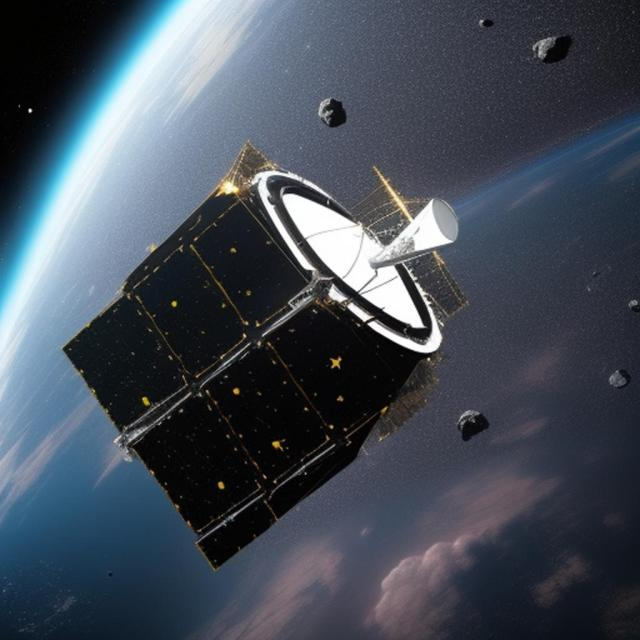large_debris: (520, 20, 596, 92), (447, 395, 508, 463), (319, 95, 353, 135)
satellite: (54, 104, 470, 596)
